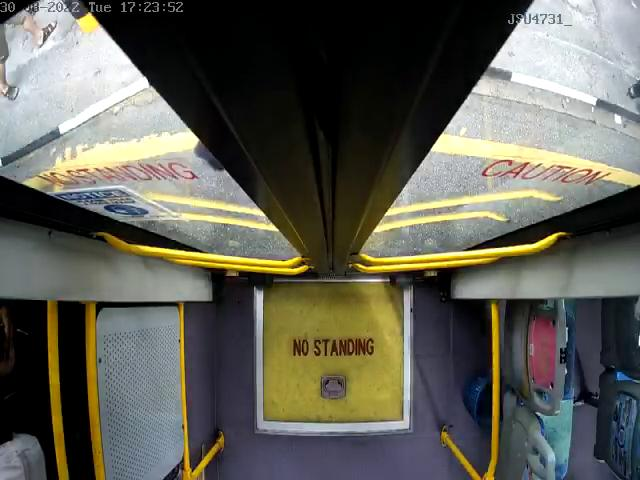close: (0, 0, 640, 94)
